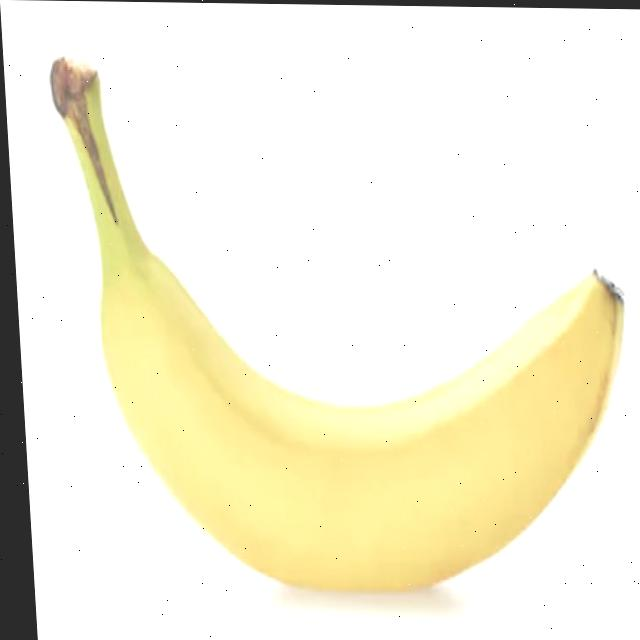banana: (35, 54, 640, 617)
